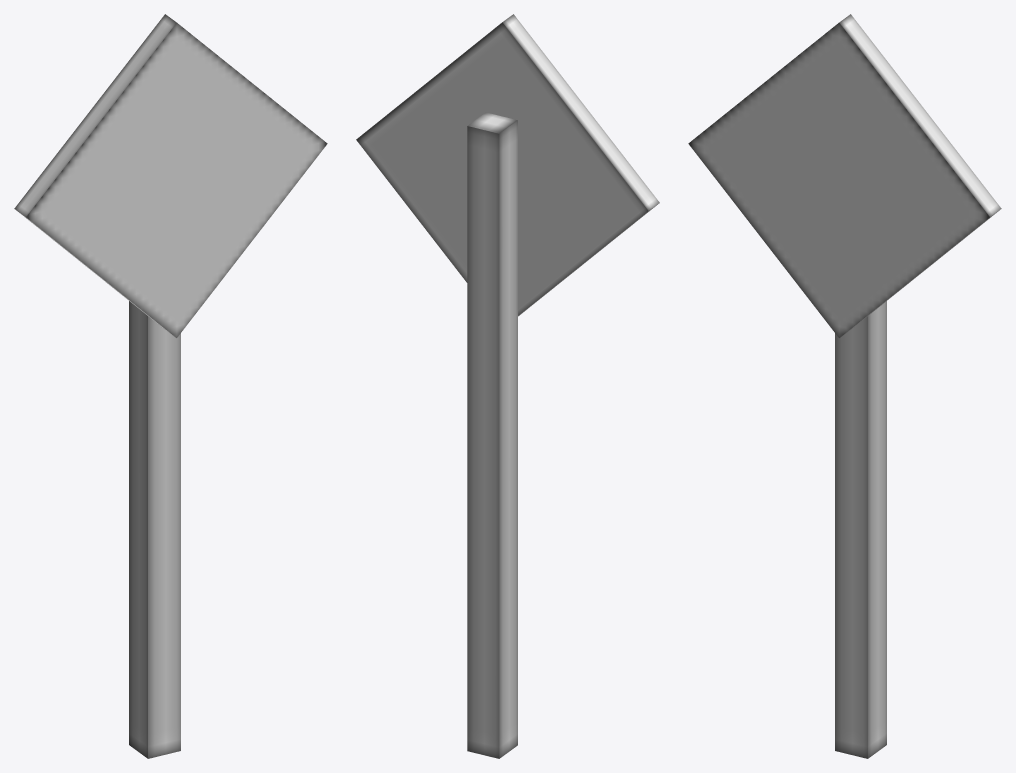
The model's file is Sign-01.fbx.
The picture shows the model from 3 angles, left to right: view 1: azimuth 30°, elevation 25°; view 2: azimuth 150°, elevation 25°; view 3: azimuth 330°, elevation 25°; orthographic projection. The views are drawn at different scales.
Parts seen in each view (by area): view 1: Sign_01; view 2: Sign_01; view 3: Sign_01.
Boxes of the visible parts, x1,y1,x2,y2 form: Sign_01: (14,14,327,758); Sign_01: (356,14,659,758); Sign_01: (688,14,1001,758).
Bounding box in the file's own units: 0.4342 × 1.02 × 0.0779.
